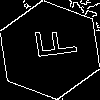F: (25, 25, 78, 62)
